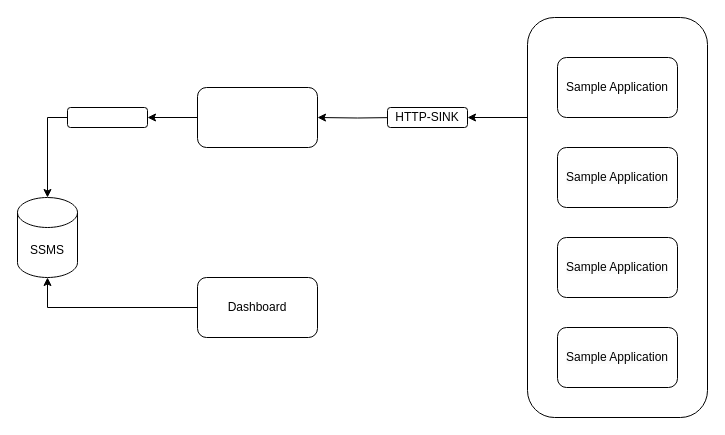
Image size: 725x435. Some labels were removed from this diagram. The box of each missing label's shape, as (x1, y1, x2, y2) in pixels:
External Applications: (526, 16, 708, 418)
Log Server: (196, 86, 318, 148)
SSMS-SINK: (66, 106, 148, 128)
